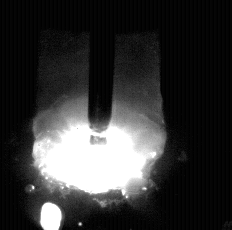arame: (88, 0, 114, 132)
poca: (32, 0, 165, 230)
